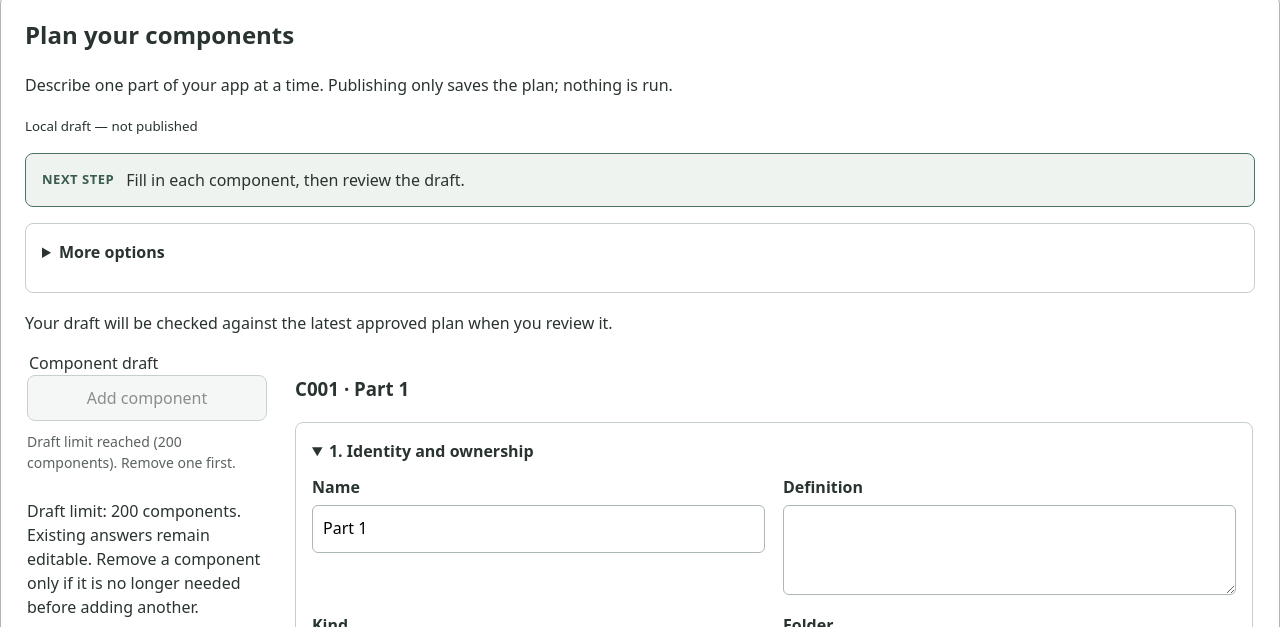
it: component limit prevents an unreloadable addition and removal makes room again
Expected: the text "Draft limit: 200 components" is shown, x1=27 y1=499 x2=267 y2=619
Click the button "Add component" at {"x": 147, "y": 398}, box x1=27 y1=375 x2=267 y2=421
(page scrolled)
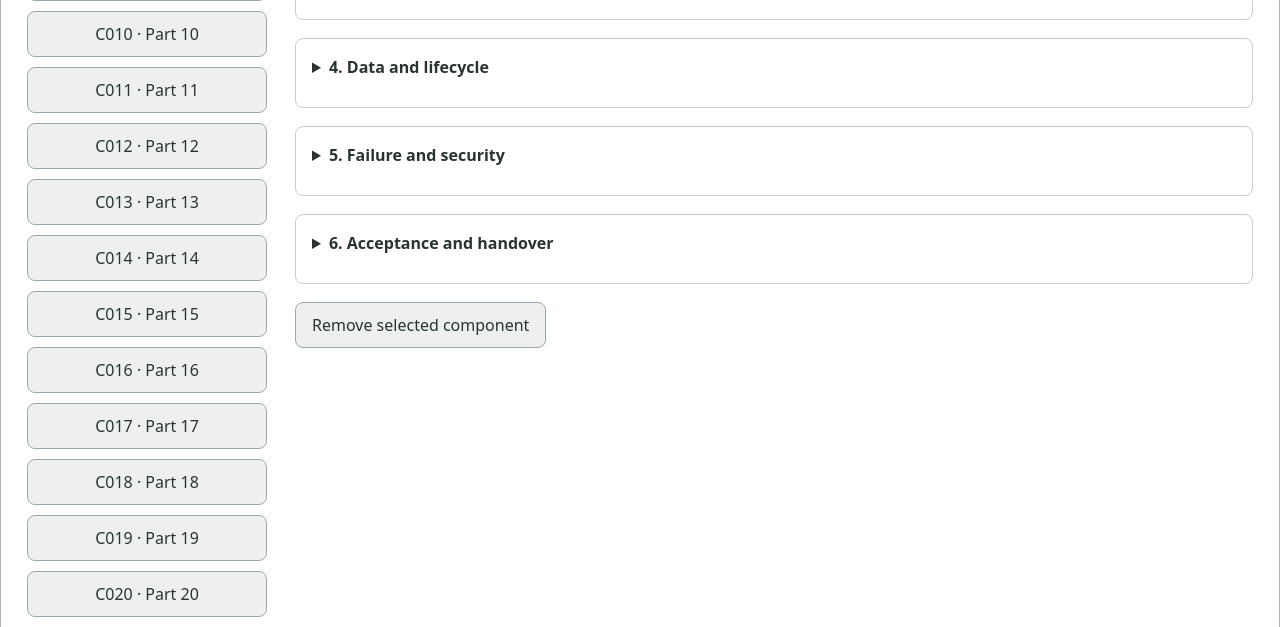
Click the button "Remove selected component" at {"x": 421, "y": 325}, box x1=295 y1=302 x2=546 y2=348
(page scrolled)
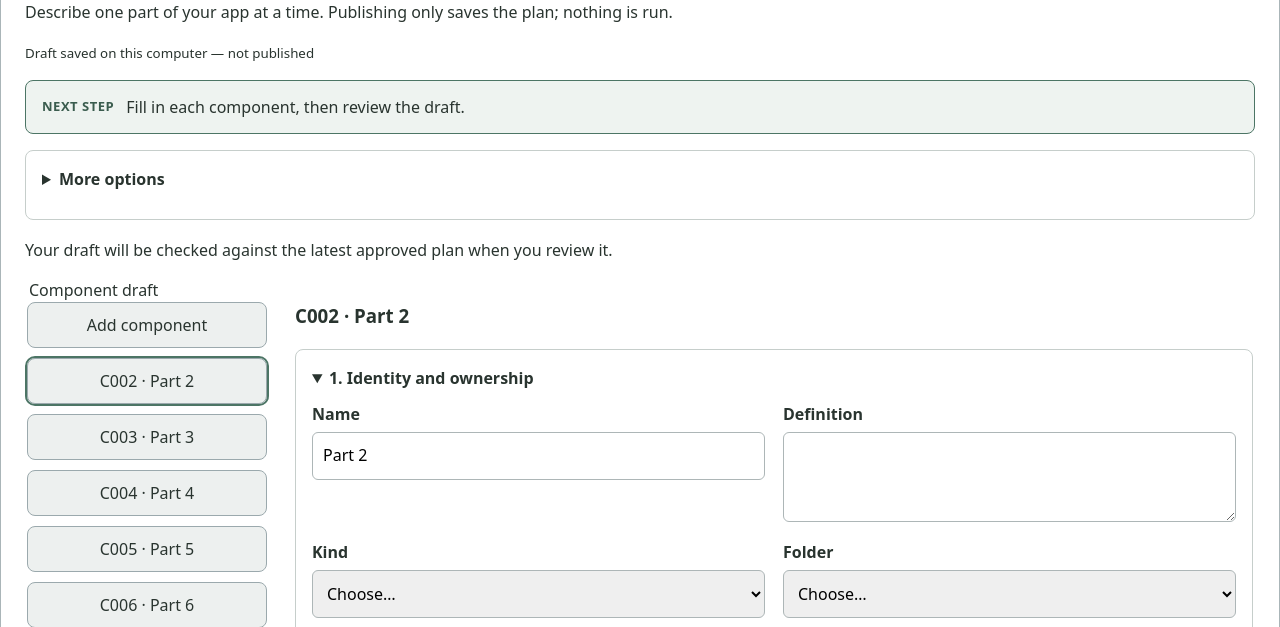
Now the button "Add component" is enabled
Click the button "Add component" at {"x": 147, "y": 325}, box x1=27 y1=302 x2=267 y2=348
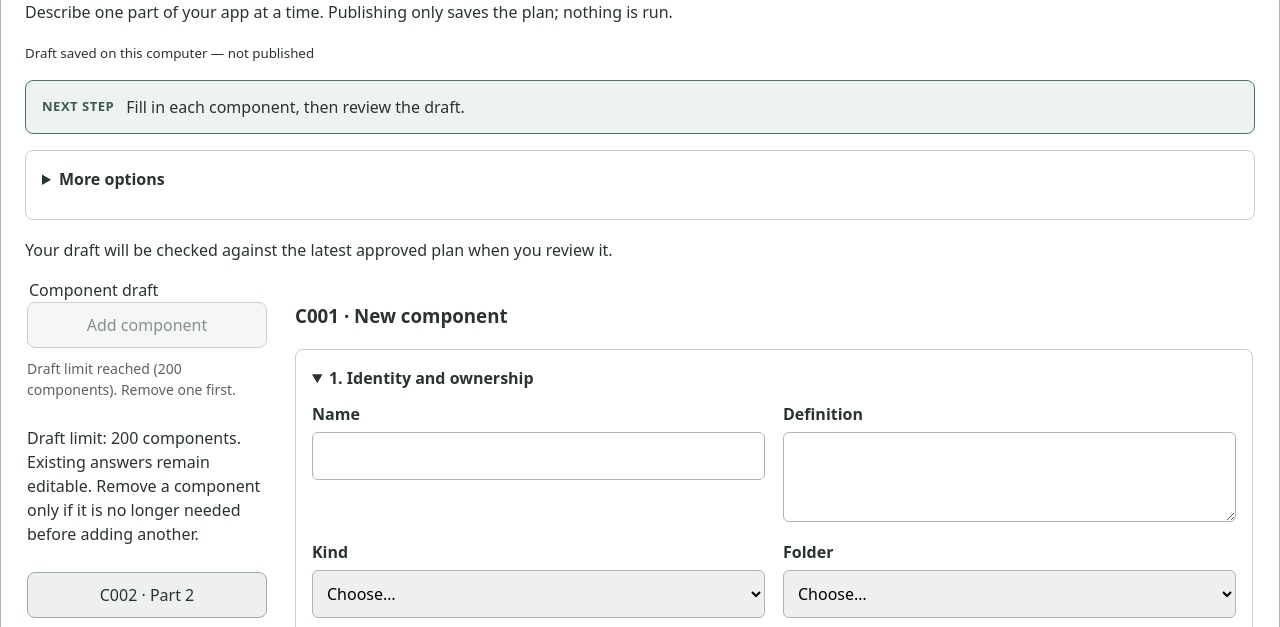
Now the button "Add component" is disabled, box x1=27 y1=302 x2=267 y2=348
